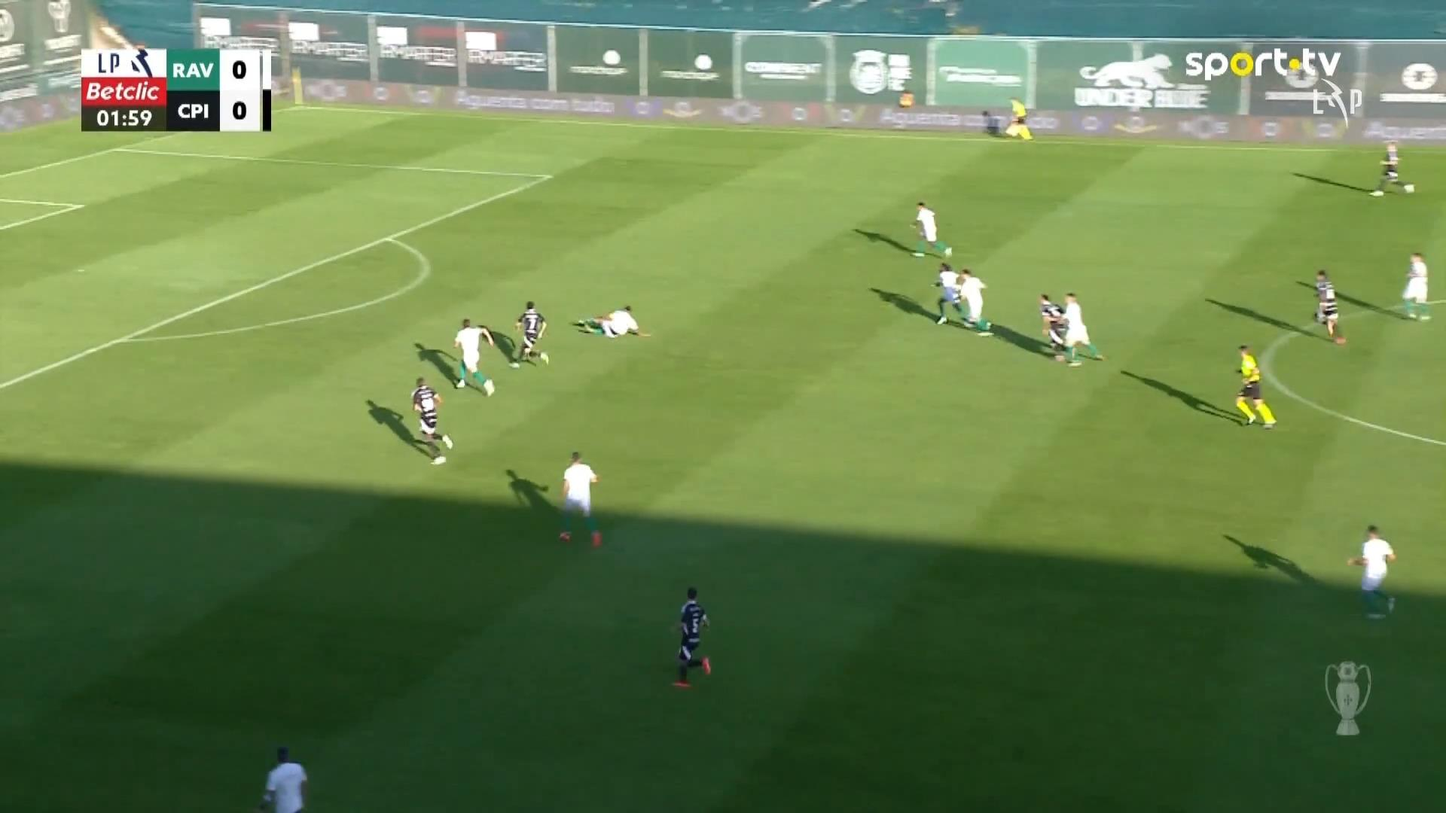player: (1346, 523, 1396, 619), (557, 450, 602, 546), (673, 586, 711, 687), (410, 375, 453, 464), (452, 317, 496, 397), (1057, 291, 1104, 364), (259, 744, 308, 811), (570, 304, 651, 339), (508, 300, 549, 368), (1038, 292, 1075, 363), (1368, 140, 1414, 196), (931, 261, 970, 325), (910, 200, 953, 258), (1312, 268, 1345, 343), (956, 266, 992, 333), (1402, 251, 1431, 320)
referee: (1234, 343, 1276, 428), (1002, 95, 1033, 139)
